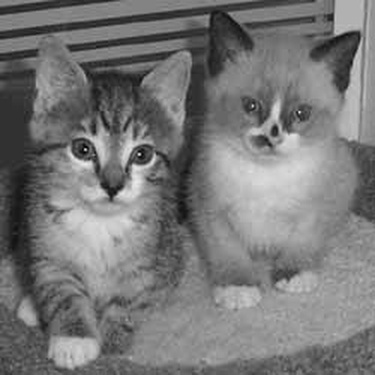cat: (182, 12, 365, 337), (22, 29, 178, 369)
